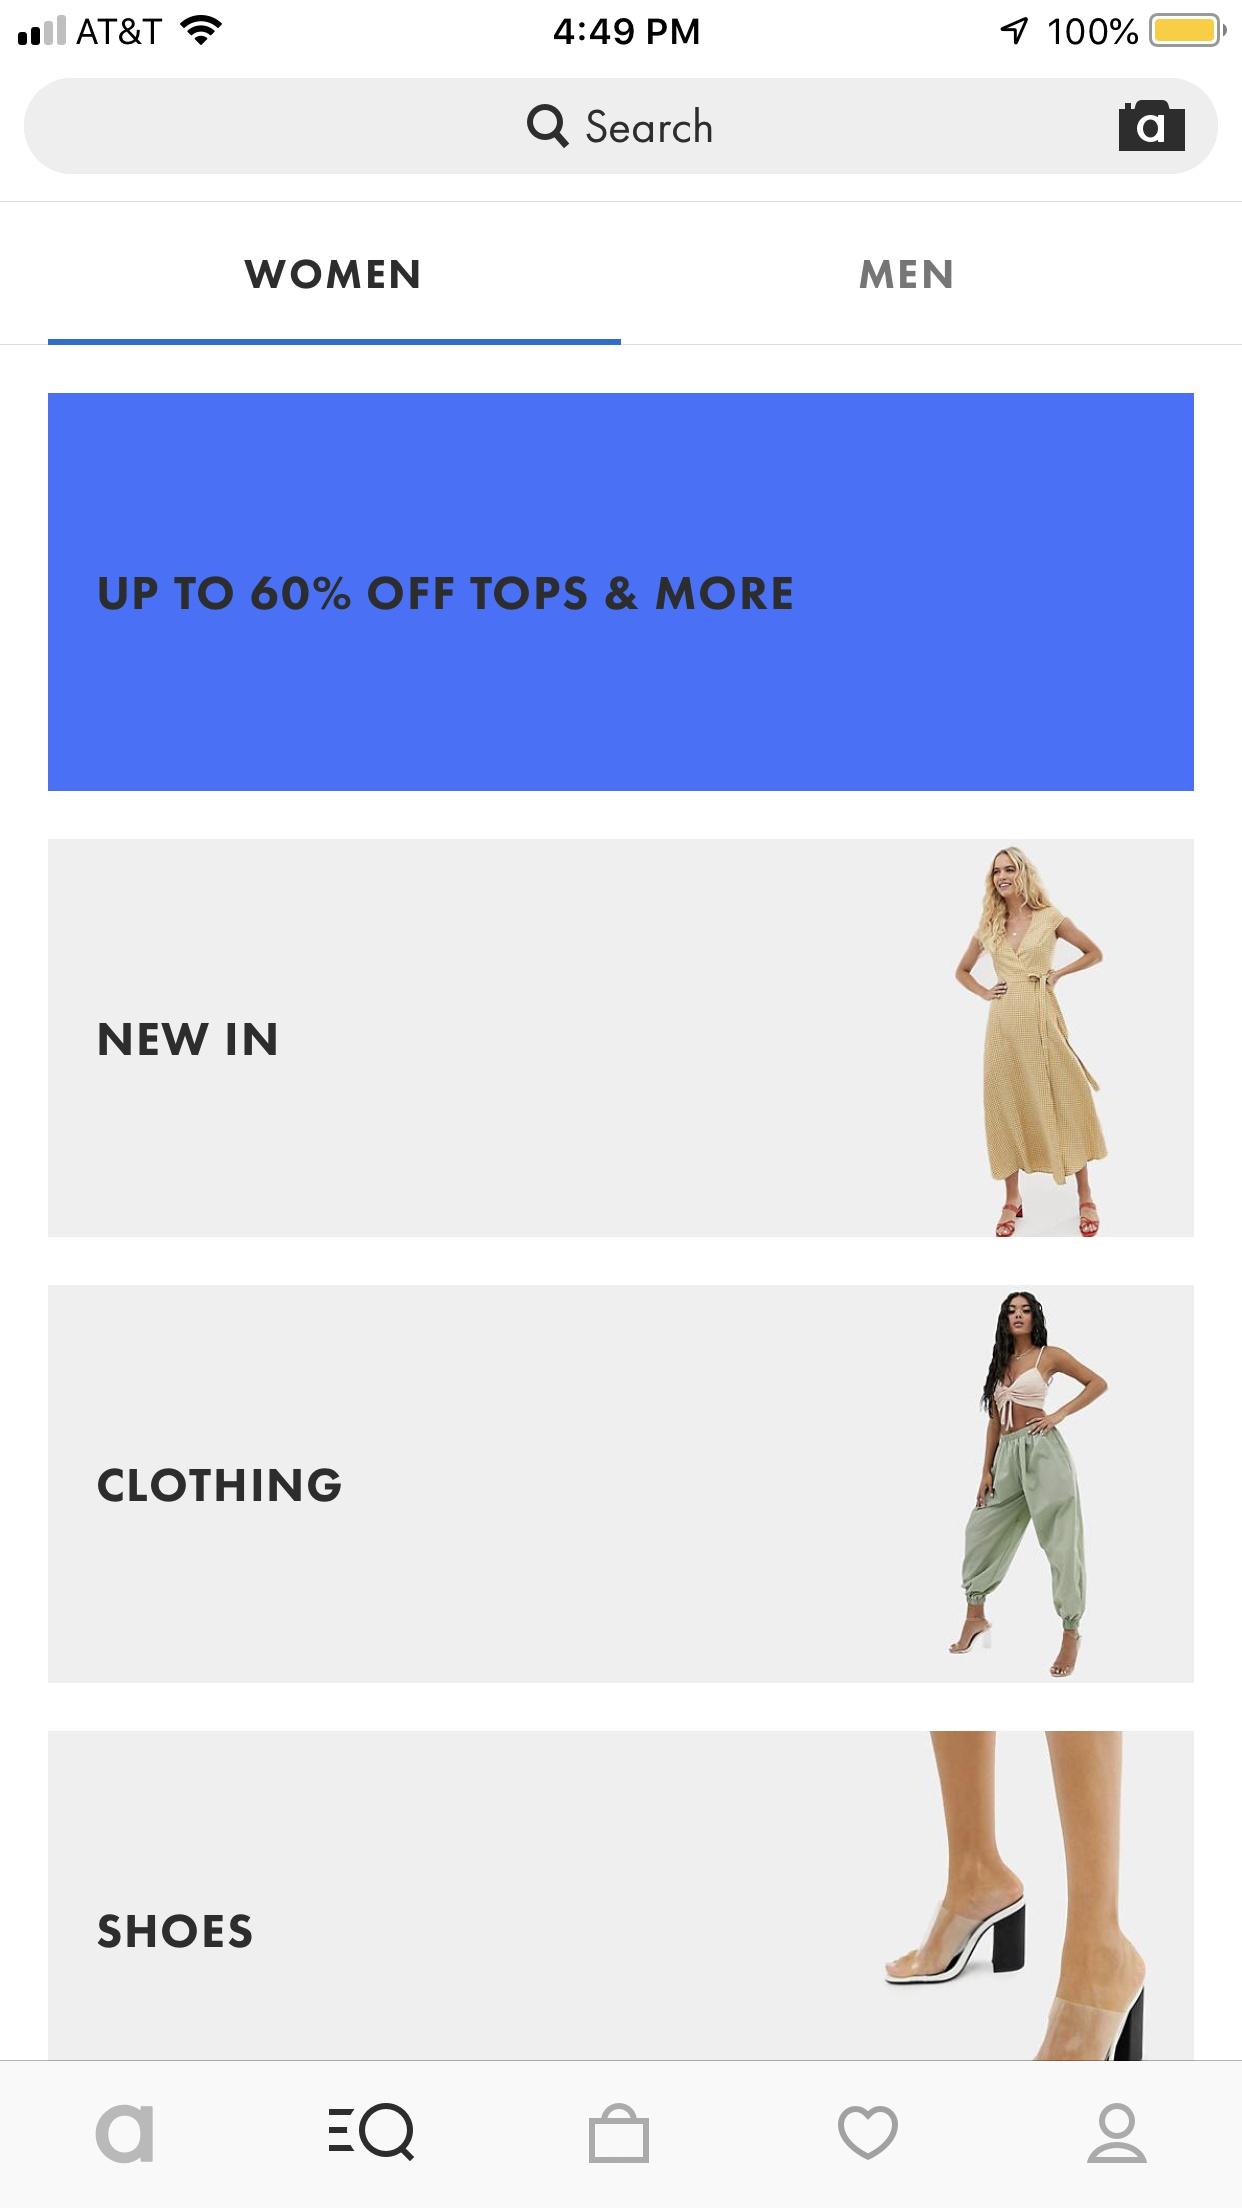EditText: (24, 77, 1218, 174)
Icon: (329, 2102, 416, 2163), (588, 2102, 651, 2164), (1087, 2102, 1148, 2164), (837, 2105, 899, 2161), (528, 105, 570, 149)
Image: (883, 1730, 1145, 2059), (946, 1291, 1110, 1683), (954, 845, 1109, 1237), (1119, 102, 1184, 152)
Text: (100, 576, 793, 613), (99, 1466, 343, 1503), (100, 1022, 278, 1055), (99, 1912, 253, 1949), (246, 259, 420, 290), (587, 108, 713, 144), (96, 2103, 155, 2164), (860, 261, 952, 290)
UpperTaskBar: (2, 2, 1242, 49)
